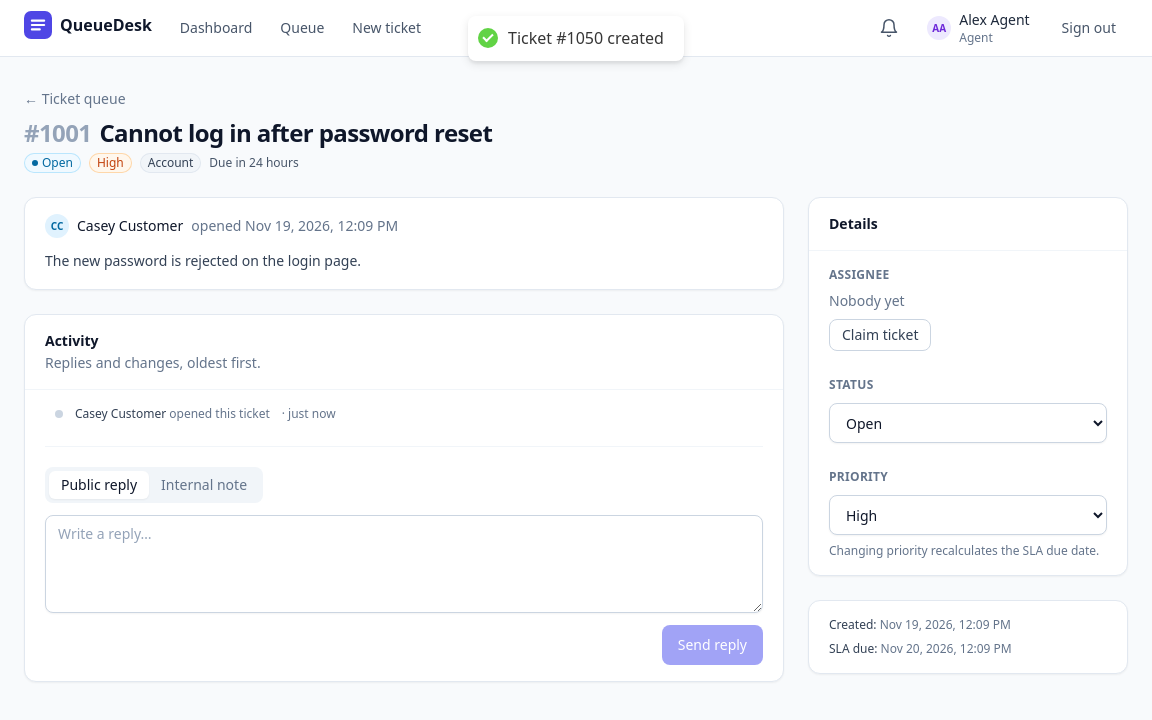
ticket detail page › lets agents claim and see internal-note controls
Click the button "Claim ticket": (880, 335) x1=829 y1=319 x2=932 y2=351
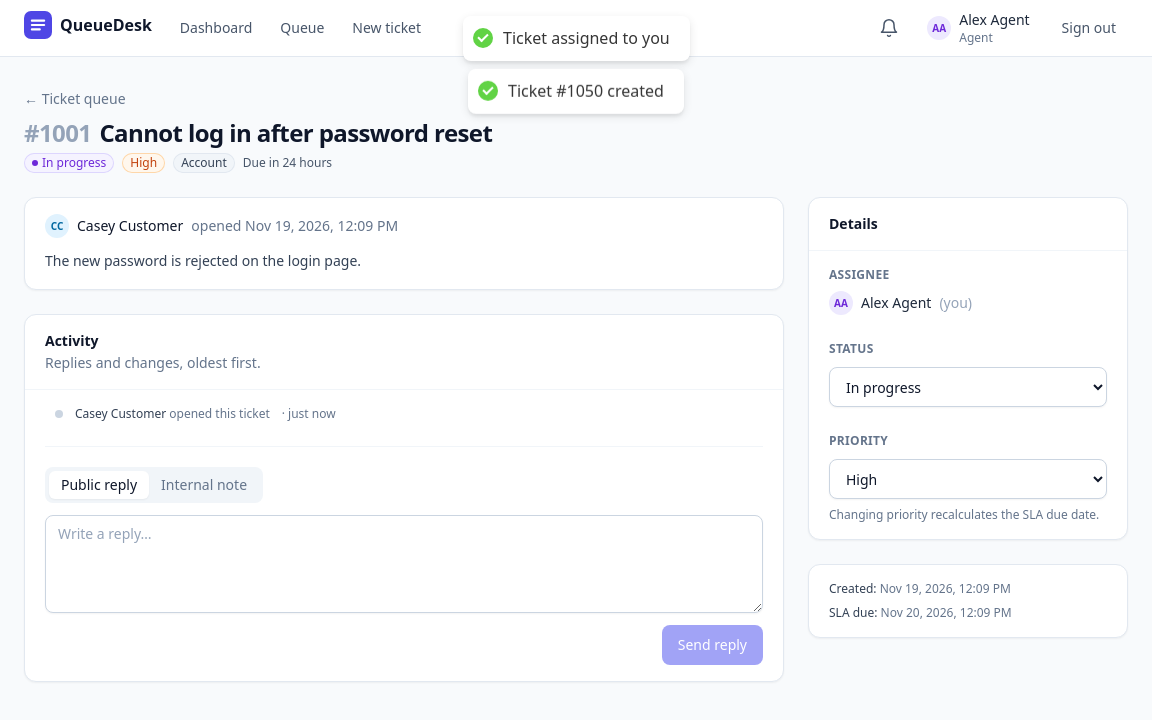
Check: the tab "Internal note" is shown, box x1=149 y1=471 x2=259 y2=499
Check: the text "Ticket assigned to you" is shown, box x1=503 y1=28 x2=669 y2=49
Check: the text "(you)" is shown, box x1=939 y1=293 x2=972 y2=313
